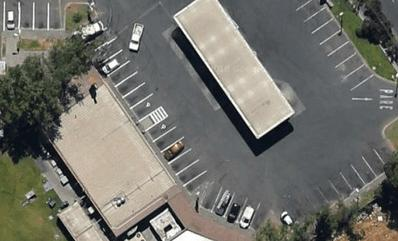parkingspot: (275, 139, 398, 237), (74, 15, 164, 126), (287, 0, 377, 93), (144, 114, 210, 190), (199, 181, 274, 235), (3, 1, 67, 31)
